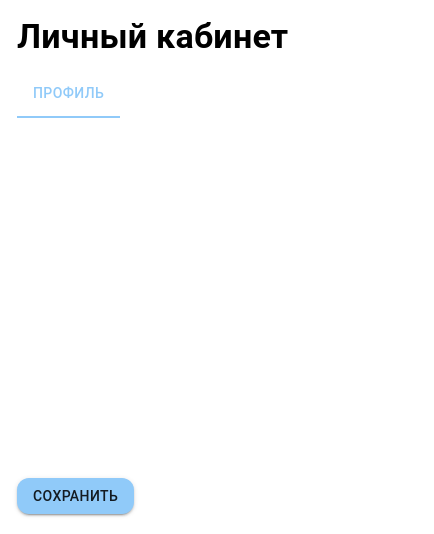
Scenario: ProfilePage › shows password form on password tab
expect the heading "Личный кабинет" is shown: met, box [17,16,288,56]
Click the tab "Пароль" at (166, 94), box [120,70,211,118]
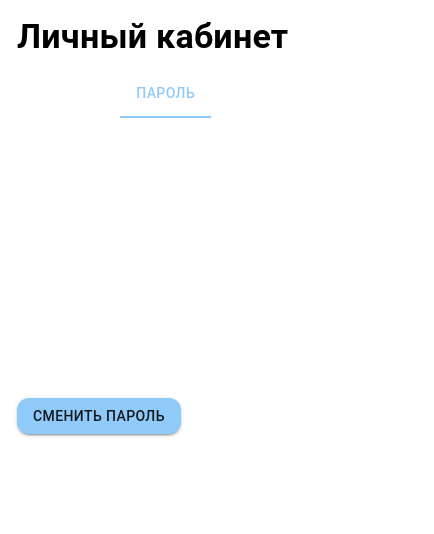
expect the button "Сменить пароль" is shown: met, box [17,398,181,434]
